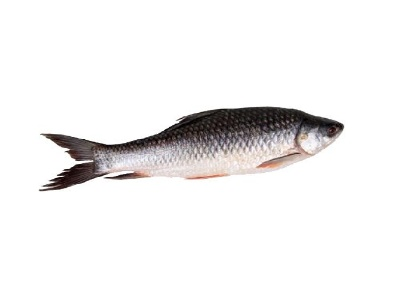rohu: (38, 94, 354, 203)
